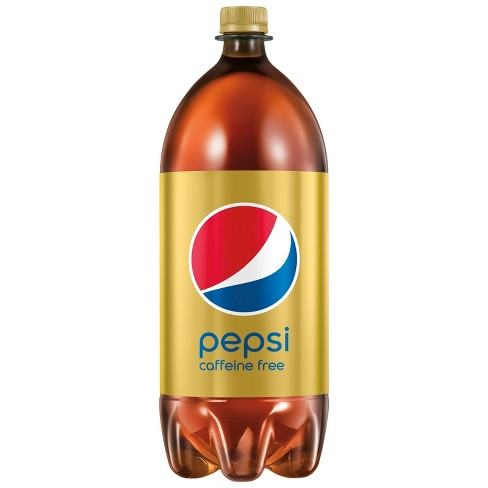pepsi: (188, 203, 298, 312)
